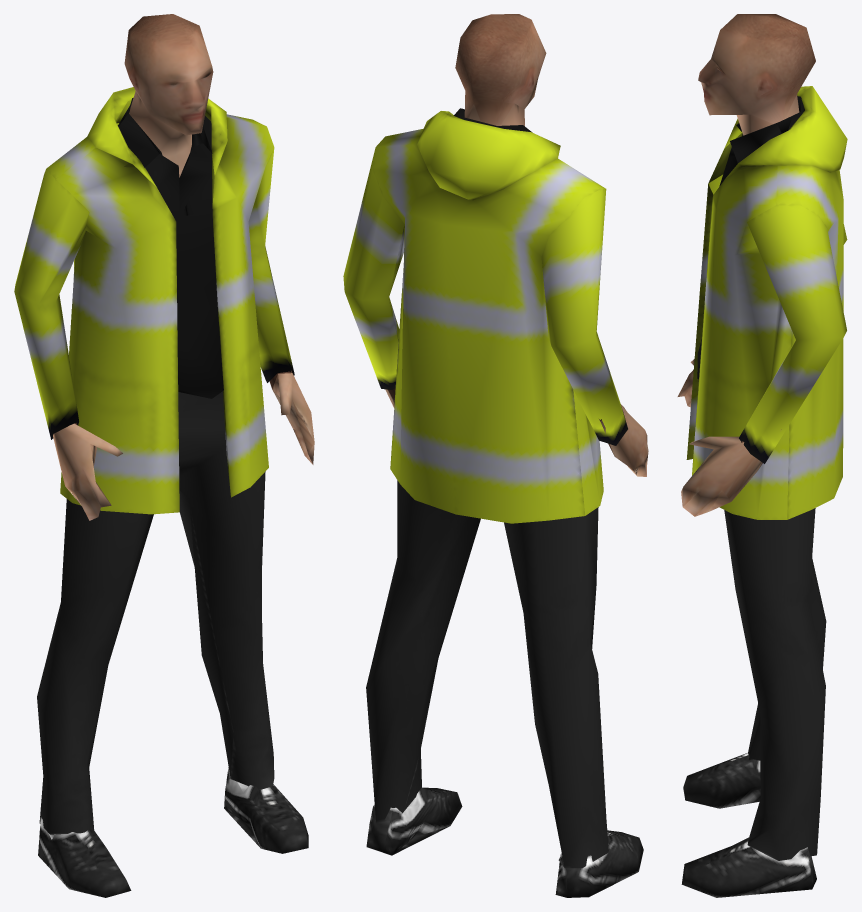
Rendered from LOW_Marshall02_TW.fbx.
3 views of the same model, side by side, from view 1: azimuth 30°, elevation 25°; view 2: azimuth 150°, elevation 25°; view 3: azimuth 270°, elevation 25° (orthographic).
Visible parts, largest first — view 1: LOW_Marshall02_TW; view 2: LOW_Marshall02_TW; view 3: LOW_Marshall02_TW.
Part boxes in pixels (box(x1,y1,x2,y2)): LOW_Marshall02_TW: box(14, 14, 314, 897); LOW_Marshall02_TW: box(343, 14, 648, 897); LOW_Marshall02_TW: box(677, 14, 847, 897).
Bounding box in the file's own units: 55.86 × 179 × 33.37.
